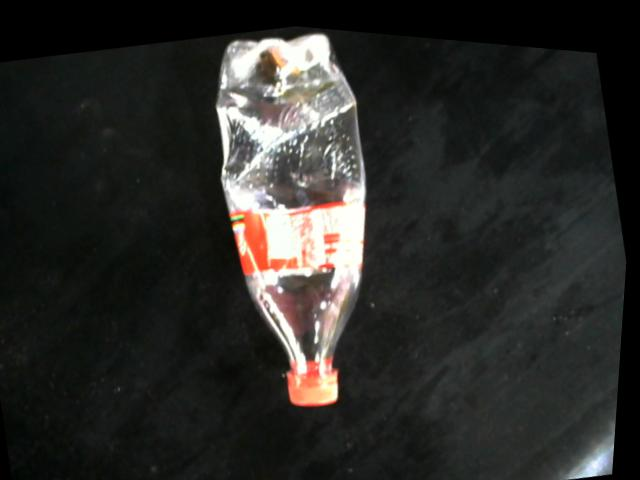bottle: (215, 26, 368, 399)
